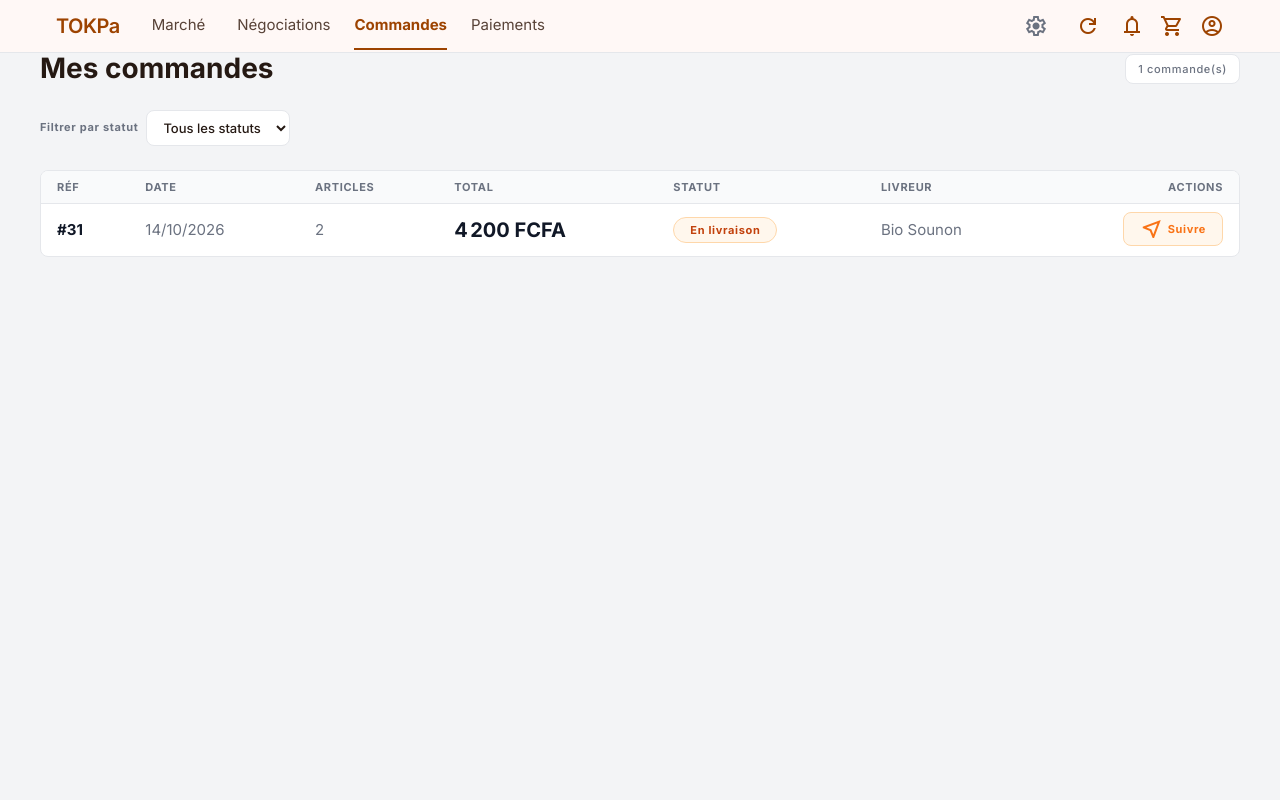
Test: Modale de commande — client › affiche le détail avec les mêmes cartes et le total
Click the text "#31" at coordinates (85, 230), box [41,204,129,256]
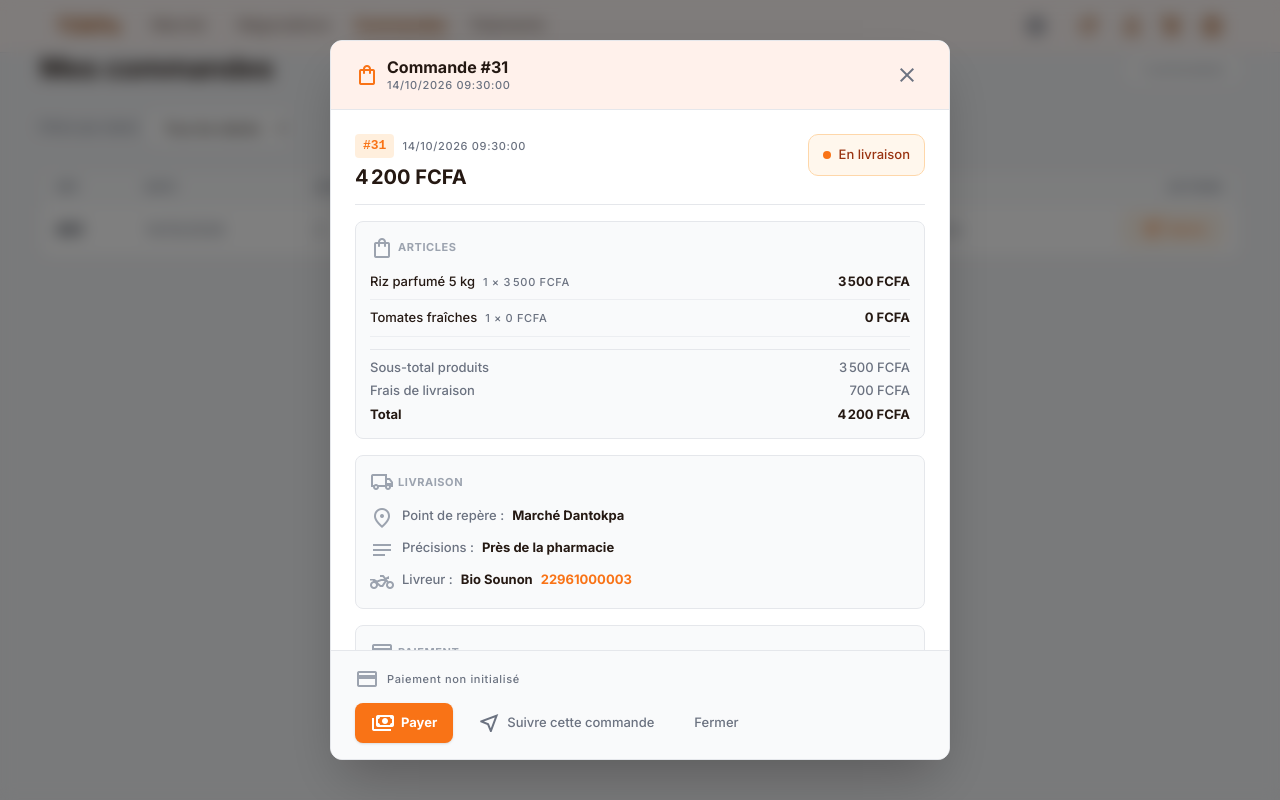
Expected: the dialog is shown
Expected: the heading "Commande #31" is shown, [387,57,510,78]
Expected: the text "Articles" is shown, [370,234,456,262]
